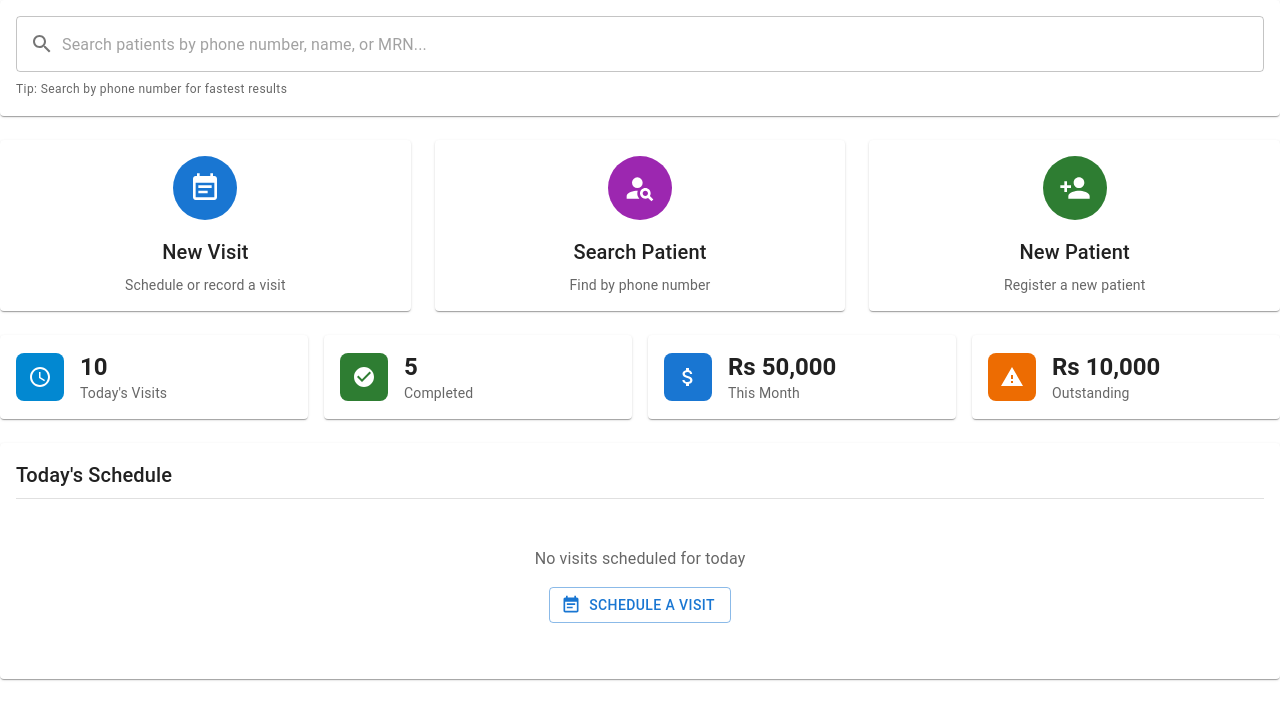
it: Dashboard Component › Patient Search › should show search results dialog
In the field with placeholder "Search patients by phone number, name, or MRN...": (663, 44) [62,16,1264,72], type "0300"
Then press Enter
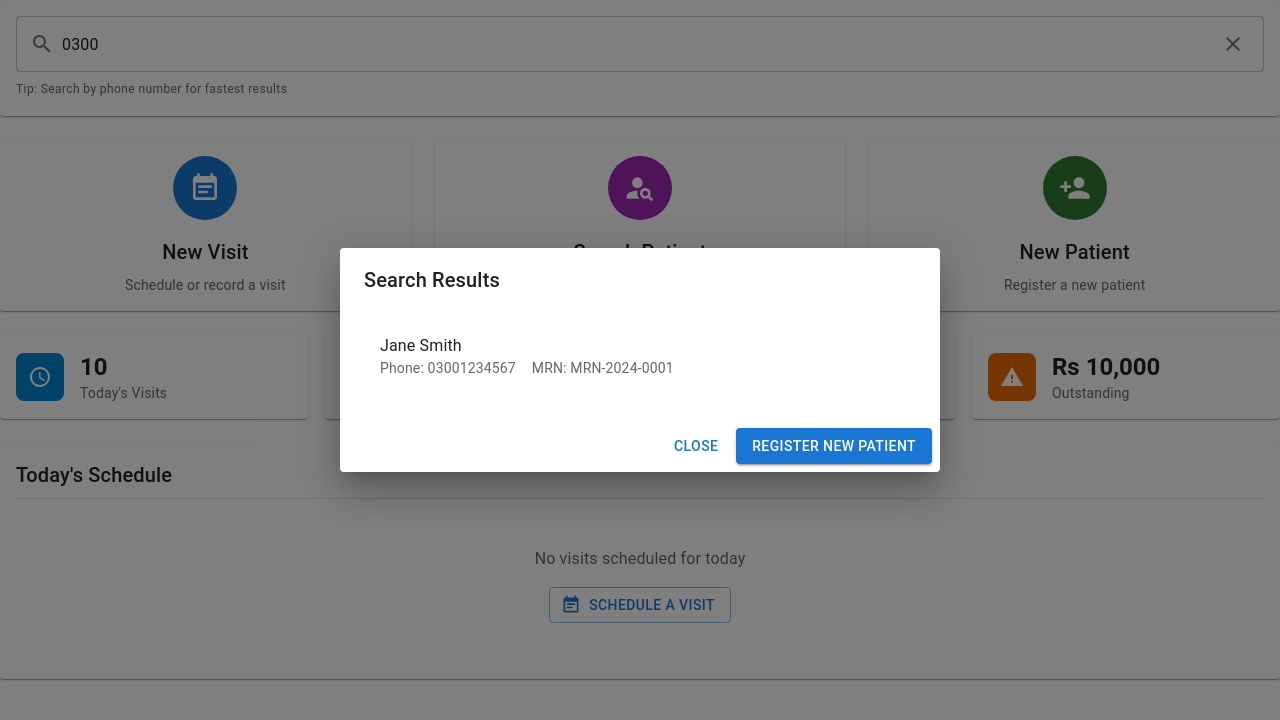
Result: the heading "Search Results" is shown at [364,268,500,292]
